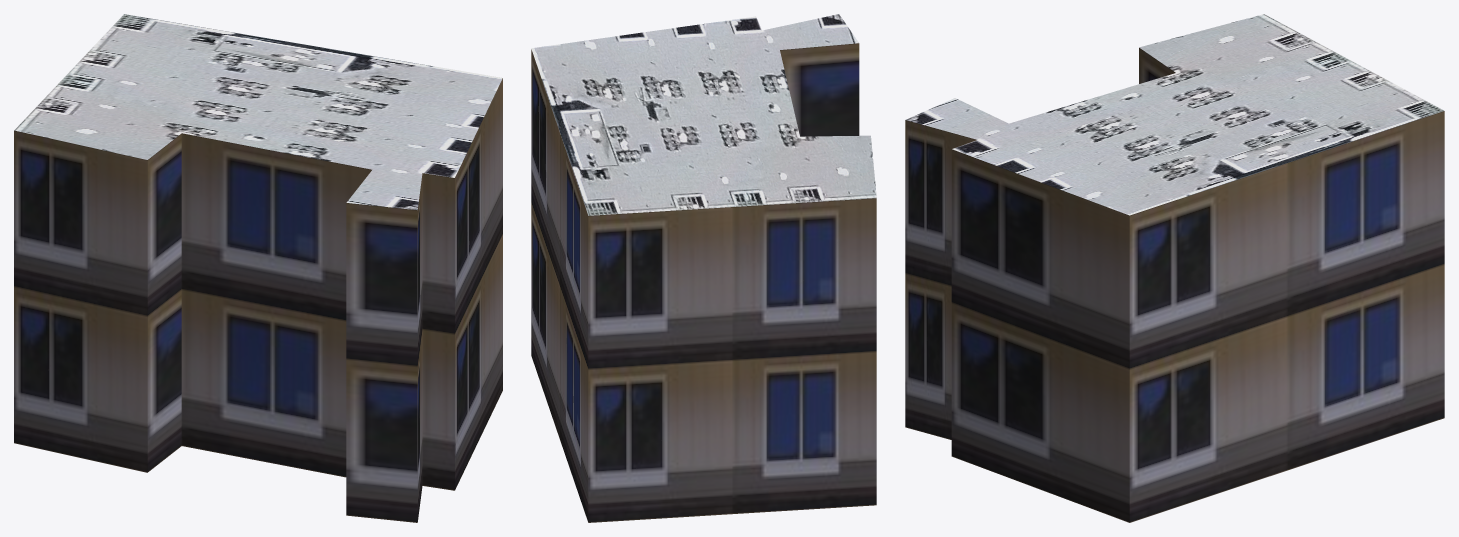
File: ResTex__4331.fbx
3 views of the same model, side by side, from view 1: azimuth 30°, elevation 25°; view 2: azimuth 150°, elevation 25°; view 3: azimuth 270°, elevation 25° (orthographic).
Visible parts, largest first — view 1: CityEngineMaterial_5_m, CityEngineMaterial_4_m; view 2: CityEngineMaterial_5_m, CityEngineMaterial_4_m; view 3: CityEngineMaterial_5_m, CityEngineMaterial_4_m.
Part boxes in pixels (x1,y1,x2,y2): CityEngineMaterial_5_m: (14, 78, 502, 522); CityEngineMaterial_4_m: (14, 14, 502, 210); CityEngineMaterial_5_m: (531, 43, 876, 522); CityEngineMaterial_4_m: (531, 14, 876, 215); CityEngineMaterial_5_m: (905, 48, 1444, 522); CityEngineMaterial_4_m: (906, 14, 1444, 215).
Bounding box in the file's own units: 8.44 × 6 × 9.54.
Materials: 2 (2 with a texture image).
